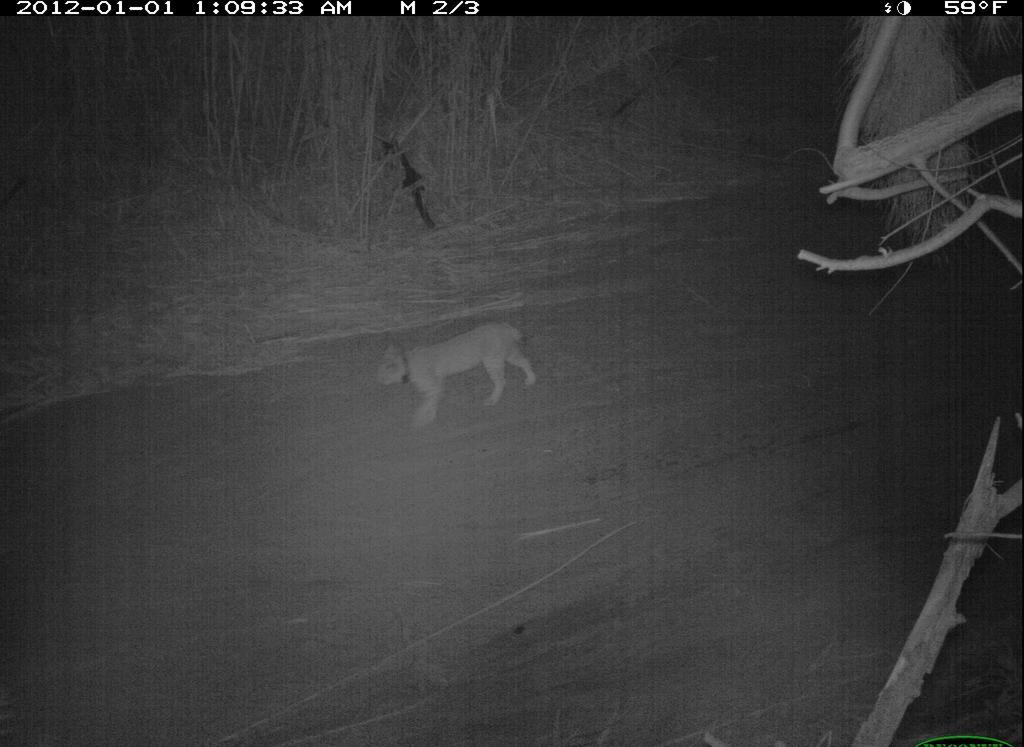bobcat: (361, 319, 553, 431)
